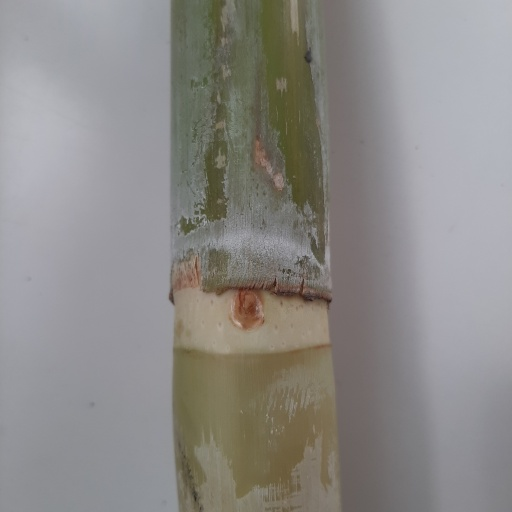Damage_Bud: (232, 290, 263, 330)
